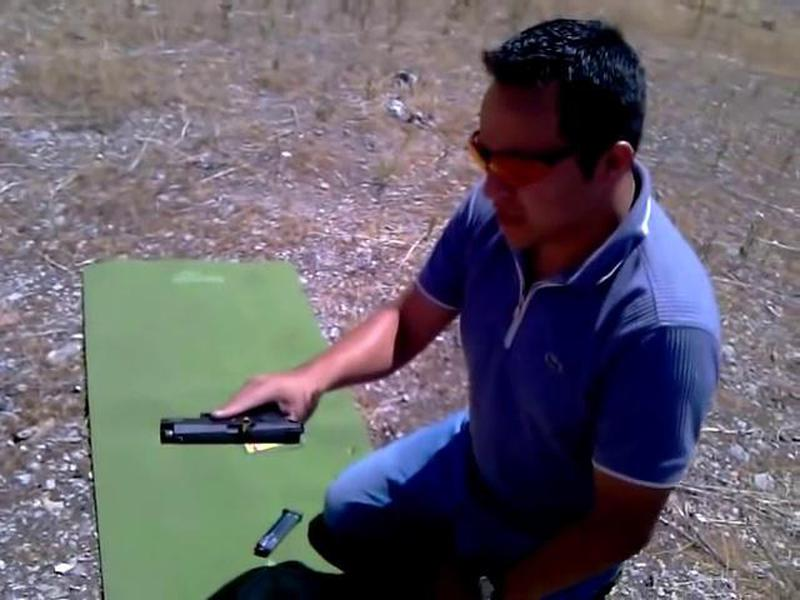Pistola: (114, 371, 328, 470)
